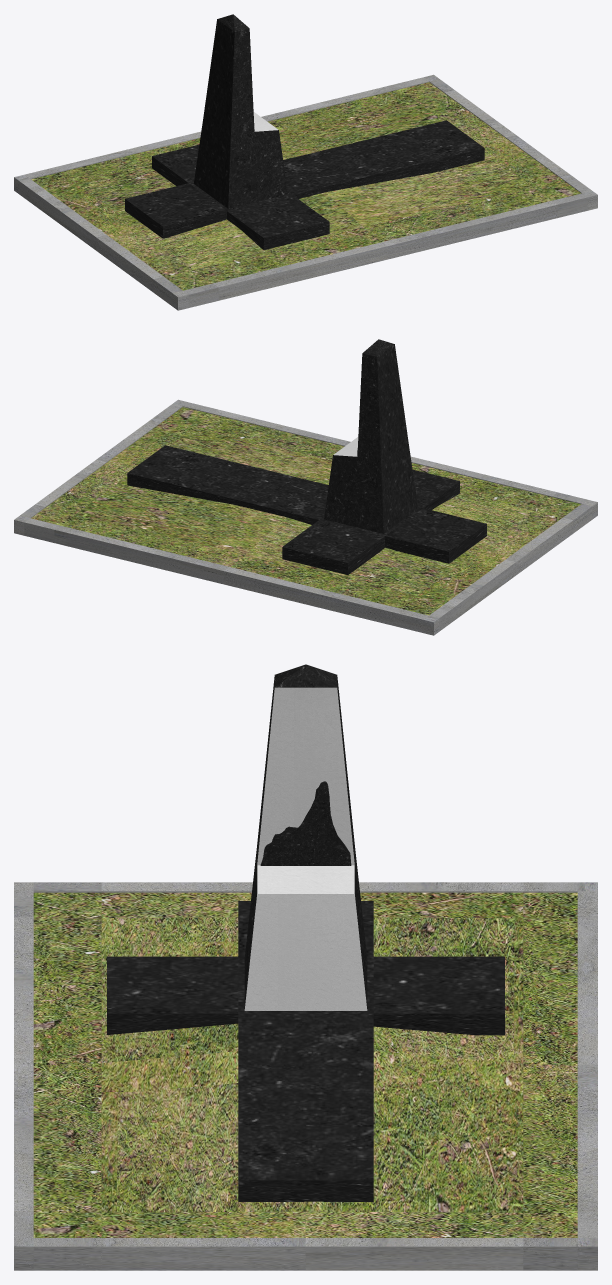
The model's file is MonumentoDedoDeDeus.glb.
The picture shows the model from 3 angles, top to bottom: view 1: azimuth 30°, elevation 25°; view 2: azimuth 150°, elevation 25°; view 3: azimuth 270°, elevation 25°; orthographic projection. The views are drawn at different scales.
Parts seen in each view (by area): view 1: Cubo.002, Cubo.001, Cubo; view 2: Cubo.002, Cubo.001, Cubo; view 3: Cubo.002, Cubo.001, Cubo, Plano.
Part boxes in pixels (x1,y1,x2,y2): Cubo.002: (14, 74, 597, 310); Cubo.001: (125, 120, 484, 249); Cubo: (193, 14, 287, 208); Cubo.002: (14, 399, 597, 635); Cubo.001: (127, 445, 486, 574); Cubo: (324, 339, 418, 533); Cubo.002: (14, 882, 597, 1270); Cubo.001: (107, 901, 504, 1201); Cubo: (244, 664, 367, 1010); Plano: (260, 781, 351, 865).
Bounding box in the file's own units: 7.69 × 3.55 × 5.21.
Materials: 3 (3 with a texture image).
